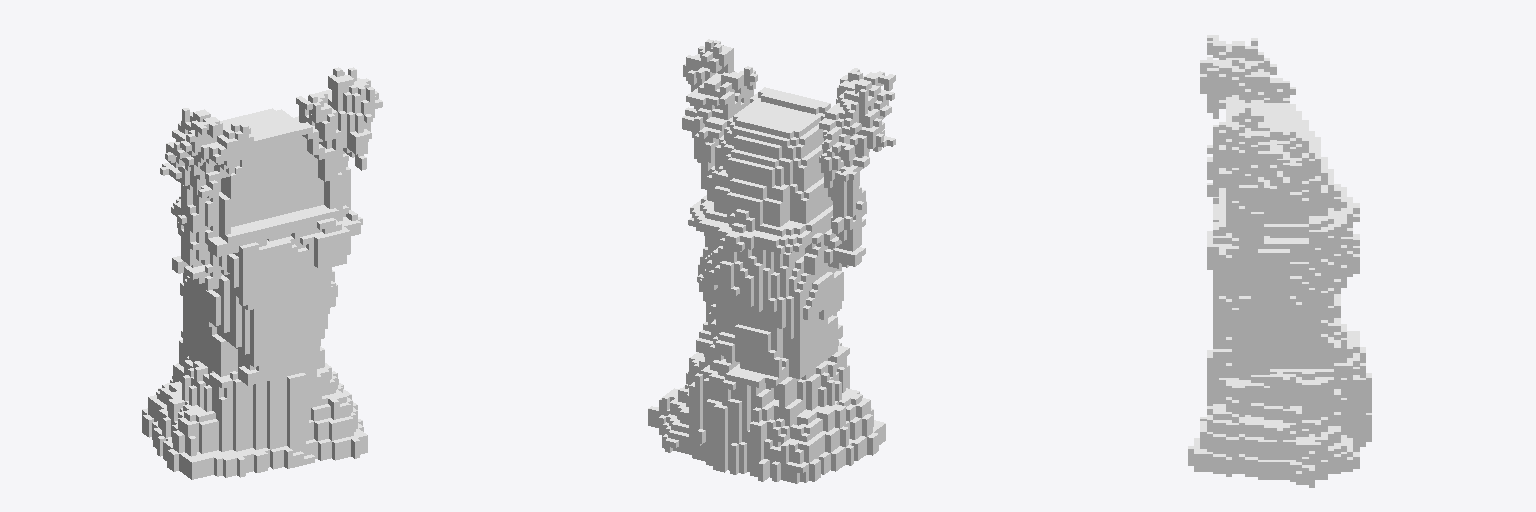
Rendered from playerHup02.obj.
3 renders of one model, left to right at view 1: azimuth 30°, elevation 25°; view 2: azimuth 150°, elevation 25°; view 3: azimuth 270°, elevation 25°, orthographic.
Visible parts, largest first — view 1: object 1; view 2: object 1; view 3: object 1.
Part boxes in pixels (x1,y1,x2,y2): object 1: (142,67,382,479); object 1: (648,39,895,483); object 1: (1188,35,1371,487).
Size of the model in its own units: 3.7 by 6.3 by 2.9.